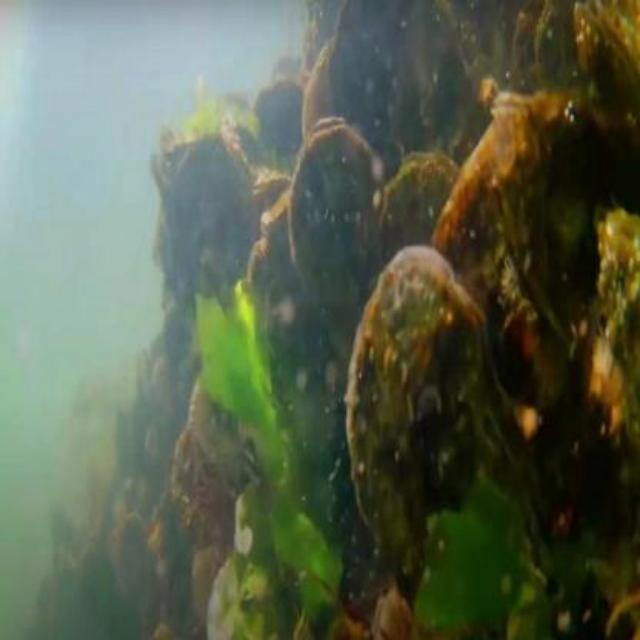Oyster-Closed: (344, 248, 564, 640), (437, 125, 574, 438), (495, 85, 640, 361), (289, 116, 388, 362), (331, 0, 429, 162), (571, 0, 640, 171), (383, 154, 456, 260), (190, 362, 246, 474), (251, 82, 305, 166), (303, 31, 336, 132), (261, 185, 294, 239)
